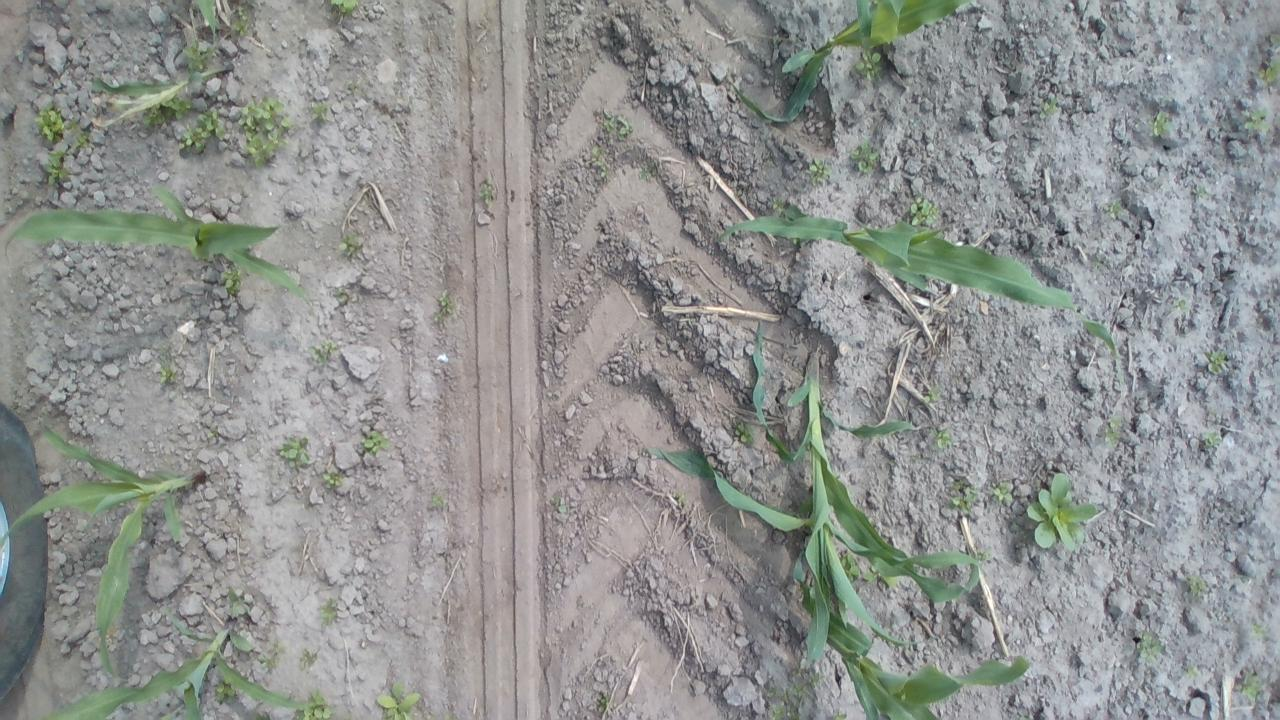Maize: (644, 314, 983, 664), (712, 212, 1126, 390), (0, 420, 208, 688), (4, 184, 317, 316), (793, 550, 1028, 720), (39, 595, 323, 720), (728, 0, 969, 126), (90, 62, 234, 130), (196, 0, 218, 41)
Weeds: (1026, 466, 1097, 552), (237, 93, 293, 170), (764, 664, 824, 720), (178, 104, 224, 154), (374, 680, 424, 720), (34, 98, 66, 140), (274, 436, 314, 468), (1131, 627, 1166, 663), (1231, 668, 1266, 701), (600, 106, 632, 142), (946, 480, 979, 514), (152, 342, 178, 384), (848, 140, 878, 176), (909, 196, 942, 228), (42, 147, 70, 184), (294, 693, 332, 720), (160, 92, 194, 122), (182, 40, 214, 70), (1243, 104, 1274, 134), (224, 584, 251, 618), (428, 288, 452, 326), (853, 50, 883, 80), (805, 156, 833, 188), (307, 339, 338, 364), (360, 428, 390, 453), (316, 594, 338, 628), (1258, 52, 1280, 84), (262, 637, 282, 672), (337, 231, 362, 258), (218, 266, 242, 294), (1149, 111, 1172, 139), (1104, 415, 1124, 446), (590, 146, 610, 177), (1206, 346, 1228, 374), (733, 418, 755, 446), (1036, 96, 1060, 121), (989, 480, 1013, 504), (1184, 568, 1204, 596), (476, 178, 496, 206), (321, 471, 346, 493), (309, 99, 332, 122), (1100, 198, 1124, 220), (140, 104, 163, 126), (638, 158, 659, 182), (1199, 430, 1223, 450), (933, 424, 952, 449), (550, 491, 568, 516), (842, 552, 859, 578), (328, 284, 348, 306), (298, 648, 318, 669), (216, 678, 235, 699), (924, 384, 942, 406), (68, 130, 88, 148), (596, 690, 612, 712), (1190, 185, 1210, 202), (1180, 661, 1202, 676), (330, 0, 360, 11), (427, 492, 447, 508), (672, 490, 688, 508), (1252, 622, 1269, 638), (760, 147, 774, 165), (1173, 298, 1188, 314), (232, 21, 248, 36), (770, 195, 785, 210), (975, 547, 992, 560), (883, 577, 902, 587), (862, 570, 876, 583), (66, 117, 79, 131), (832, 709, 848, 720), (344, 79, 356, 93), (1269, 31, 1280, 46), (236, 4, 246, 20), (250, 712, 272, 718), (207, 426, 218, 438), (909, 454, 922, 464), (887, 458, 898, 467)
